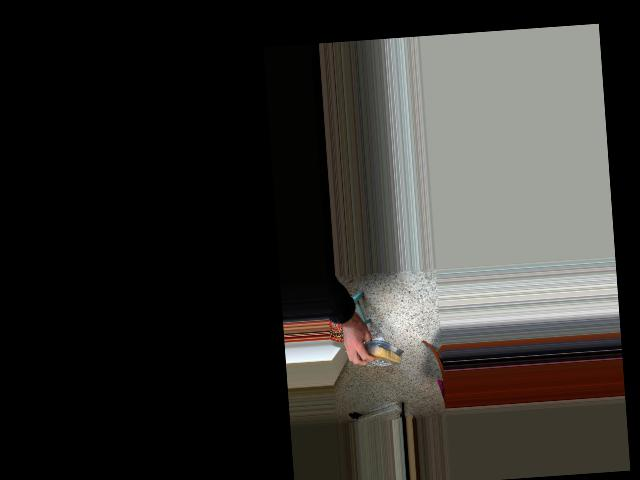cheese: (357, 342, 404, 368)
